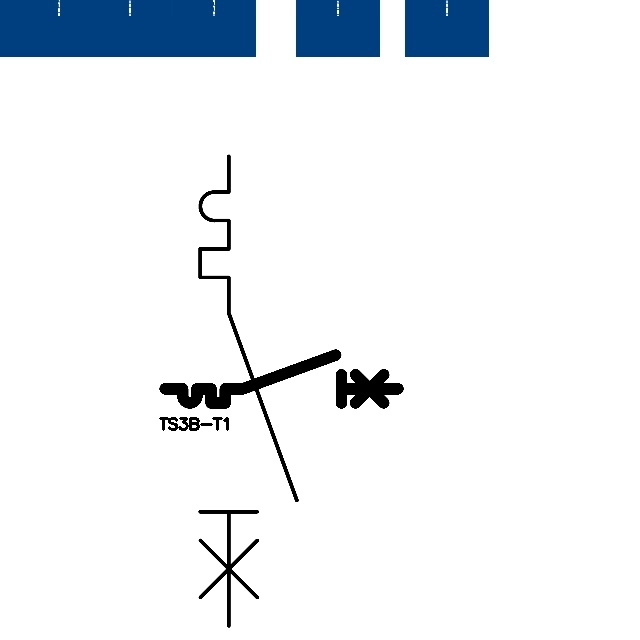interruptor_termomagnetico: (188, 144, 309, 638), (159, 349, 403, 409)
